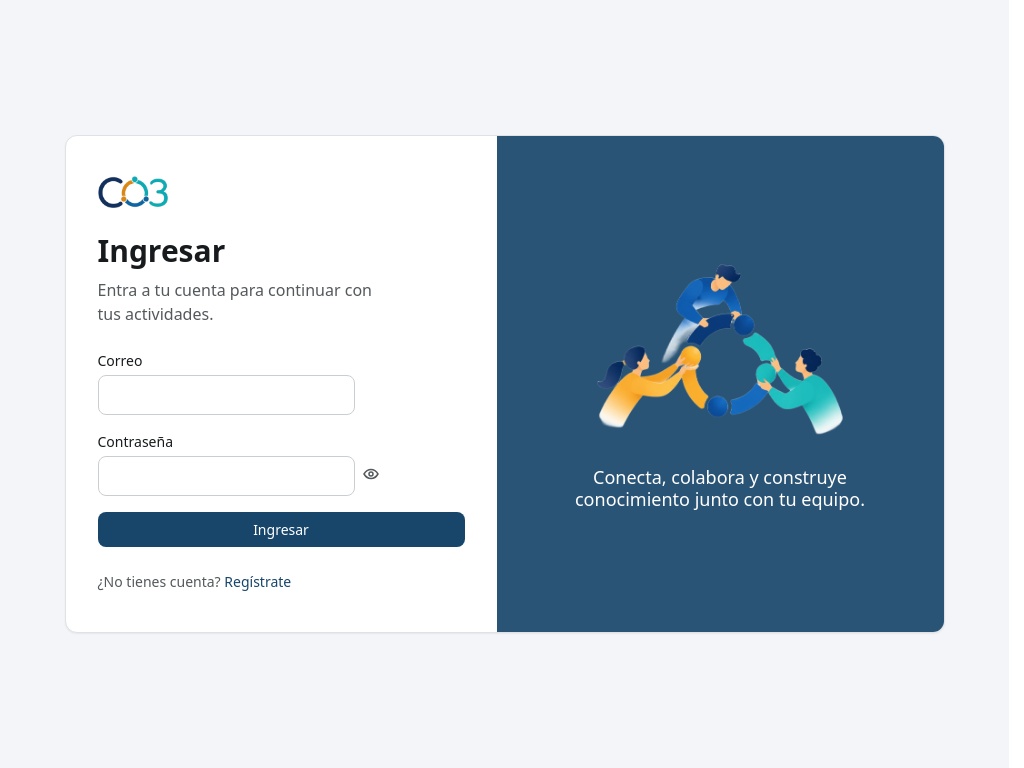
Test: PantallaIngresar › valida el formato de correo al salir del campo
The image size is (1024, 768).
Type "no-es-un-correo" into the field labelled "Correo" at (226, 394), box [98, 374, 354, 414]
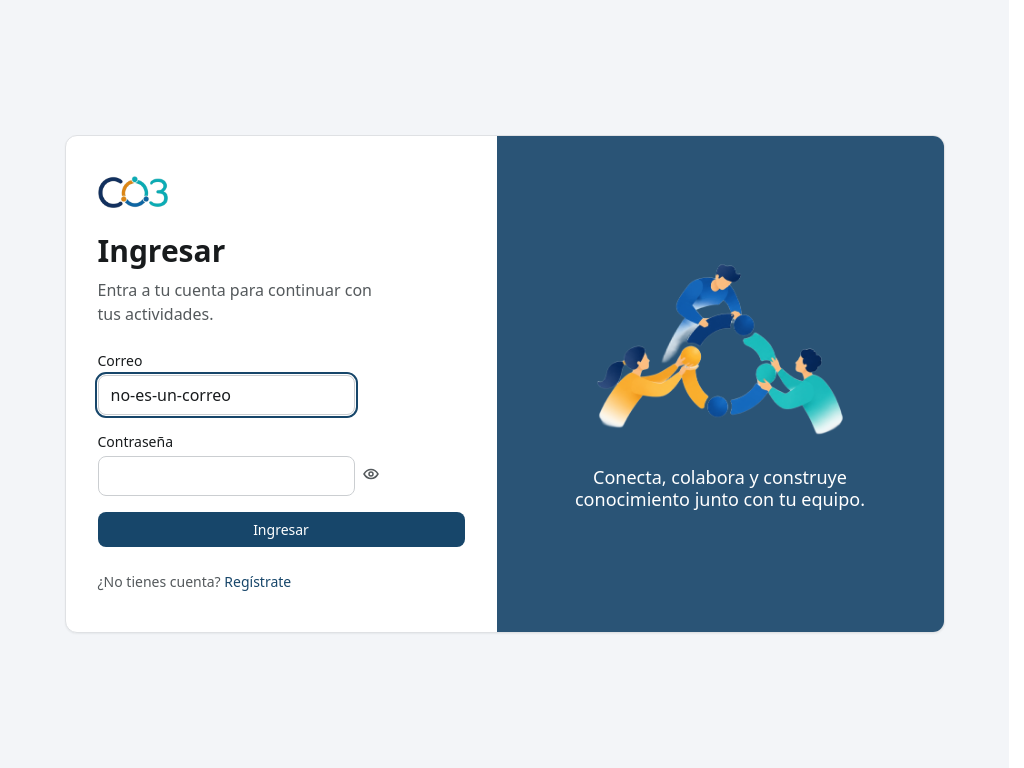
Press Tab
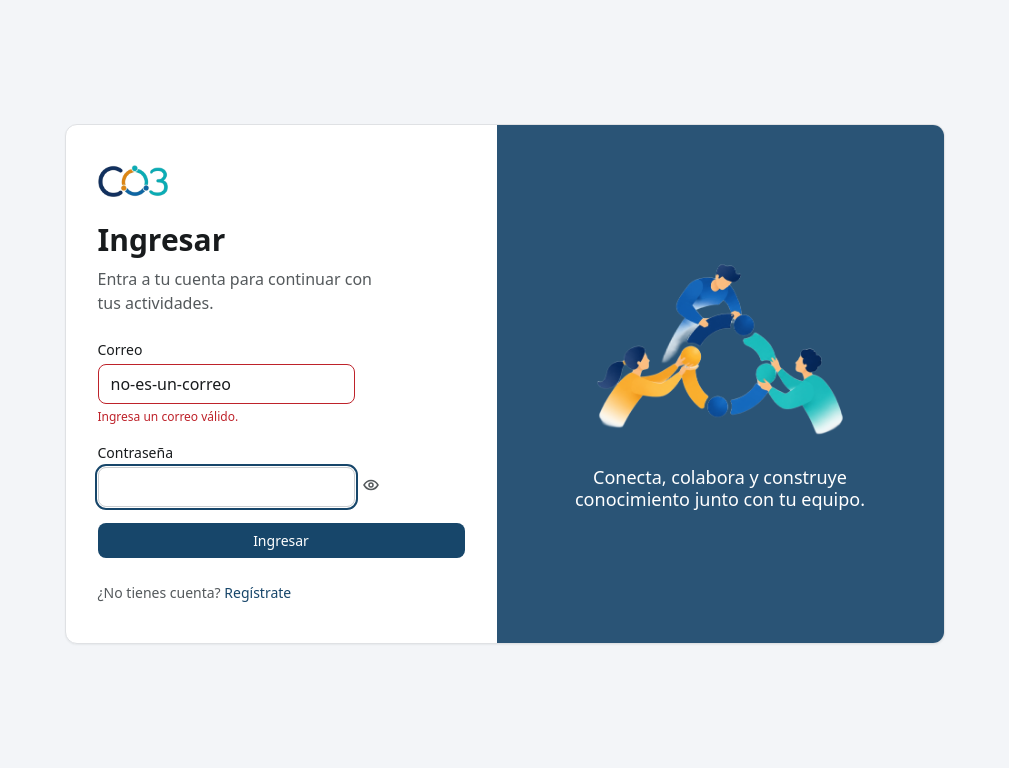
Expected: the text "Ingresa un correo válido." is shown, [98, 408, 238, 424]
